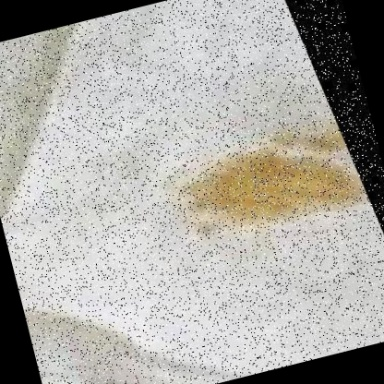coffee: (184, 119, 372, 253)
